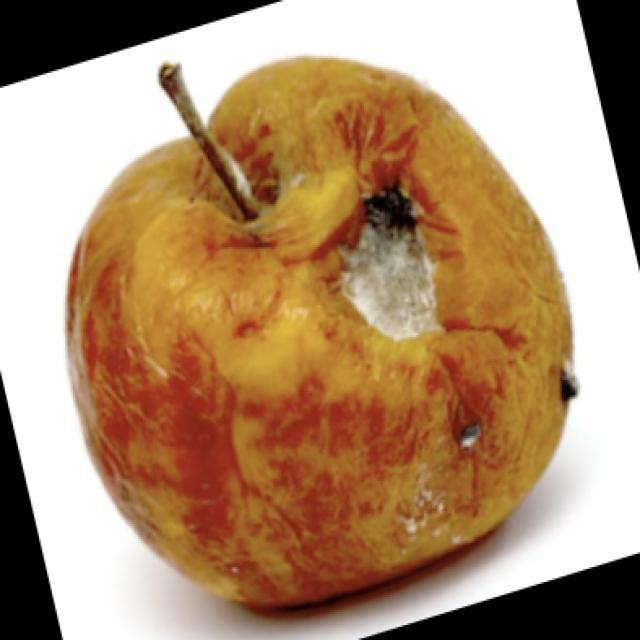Rotten: (68, 57, 560, 593)
